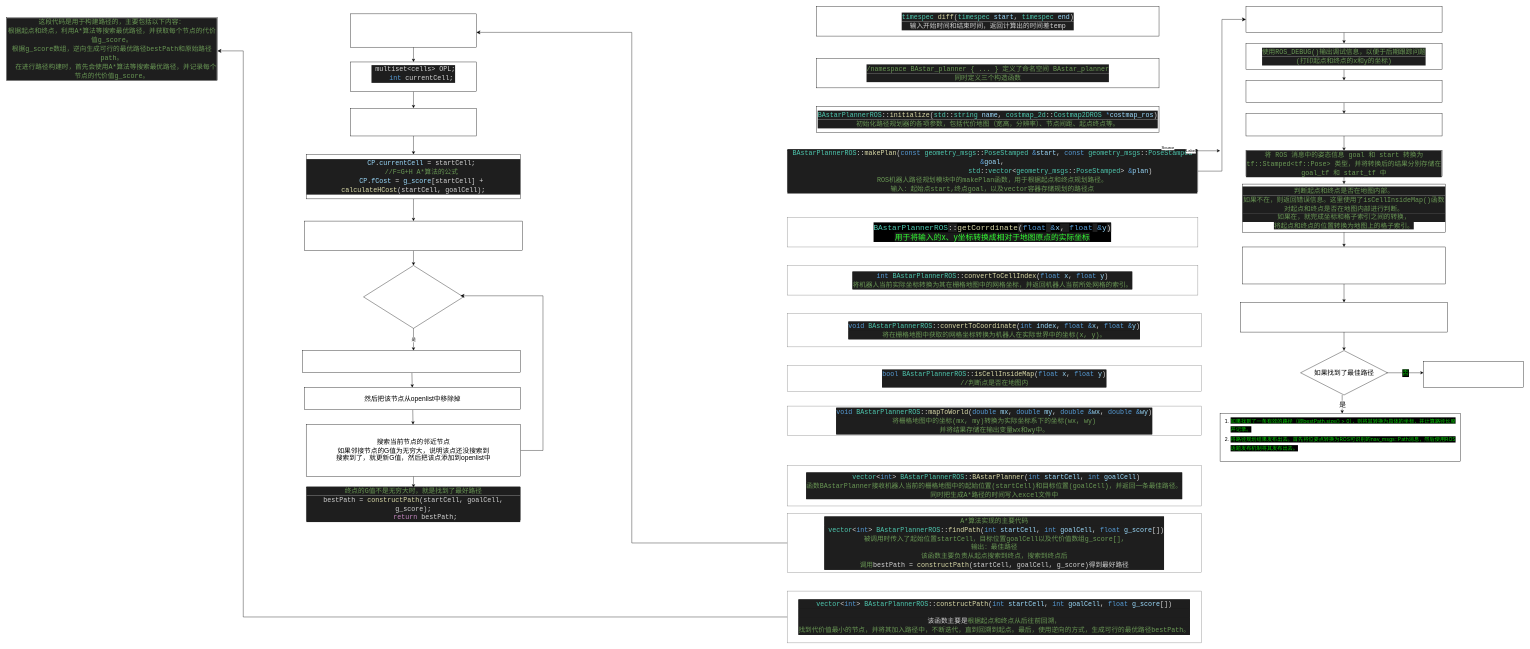
Image size: 1530x649. Some labels were removed from this diagram. The shapes that lost their labels are listed below. From the top down, each one's box as (x1, y1, x2, y2) in pixels, then its label:
(350, 14, 476, 47): vector< int > bestPath; vector< int > emptyPath; cells CP;
(1246, 6, 1442, 32): 判断模块是否已经初始化，如果还没初始化打印出来
(1246, 80, 1442, 103): 清空存储路径规划结果的plan变量，
(350, 108, 476, 136): 计算开始点的G值和F值
(1246, 113, 1442, 136): 检查目标点goal是否在规划地图的全局坐标系中。如果不在，则返回错误信息。
(304, 221, 523, 251): 然后把开始点添加进openlist中
(1242, 247, 1446, 284): 如果起点和终点都合法，则调用BAstarPlanner函数进行路径规划
(363, 265, 463, 328): 当openlist列表不为空 和还没搜索到终点时
(1240, 302, 1448, 332): bestPath = BAstarPlanner (startCell, goalCell); 输入：起始索引和终点索引、 输出:最佳路径bestPath
(302, 350, 521, 373): 选择openlist列表中f值最小的作为当前节点
(1423, 361, 1523, 388): ROS_WARN ( "Not valid start or goal" );
